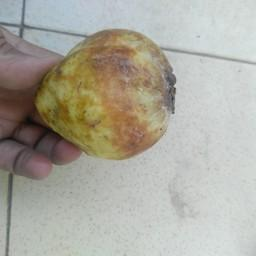Bad_guava: (33, 26, 177, 161)
